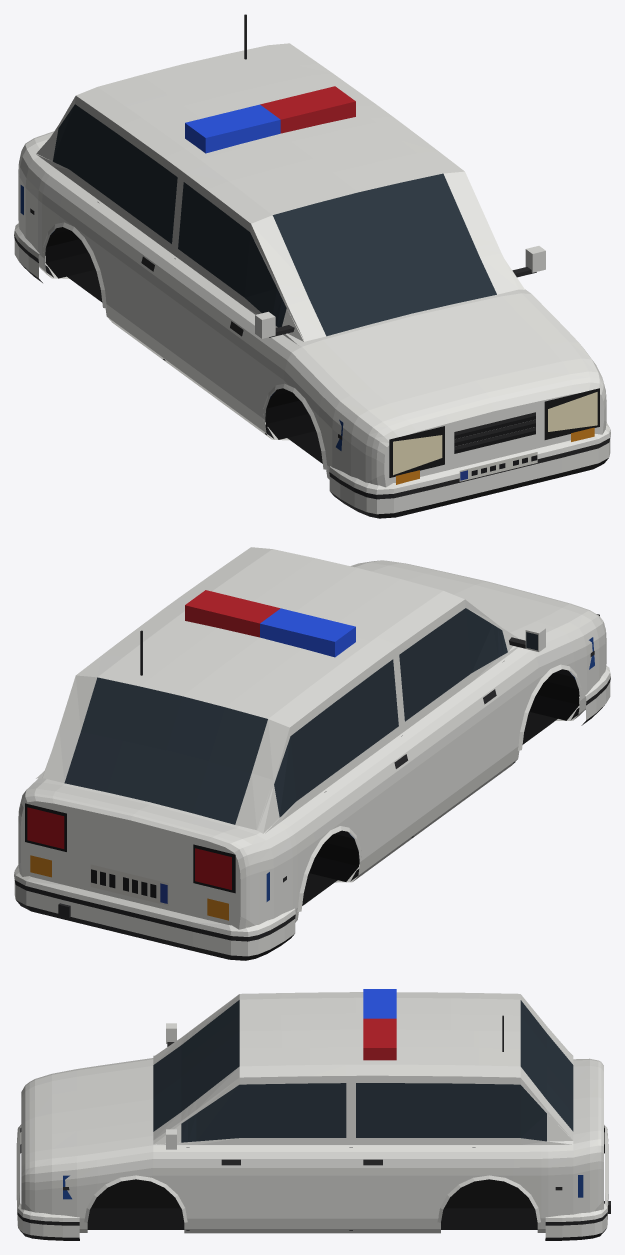
Rendered from vega-cordel-patrulla.glb.
The picture shows the model from 3 angles, top to bottom: view 1: azimuth 30°, elevation 25°; view 2: azimuth 150°, elevation 25°; view 3: azimuth 270°, elevation 25°; orthographic projection. The views are drawn at different scales.
Visible parts, largest first — view 1: LOD0, door_FR, door_RR; view 2: LOD0, door_FR, door_RR; view 3: LOD0, door_FL, door_RL.
Part boxes in pixels (x1,y1,x2,y2): LOD0: (14,14,610,518); door_FR: (161,173,282,431); door_RR: (84,116,178,355); LOD0: (14,547,610,960); door_FR: (398,599,517,833); door_RR: (319,651,414,875); LOD0: (16,989,610,1240); door_FL: (188,1076,349,1228); door_RL: (353,1075,473,1228).
Size of what is drawn, in the model's own units: 1.89 by 1.56 by 4.29.
